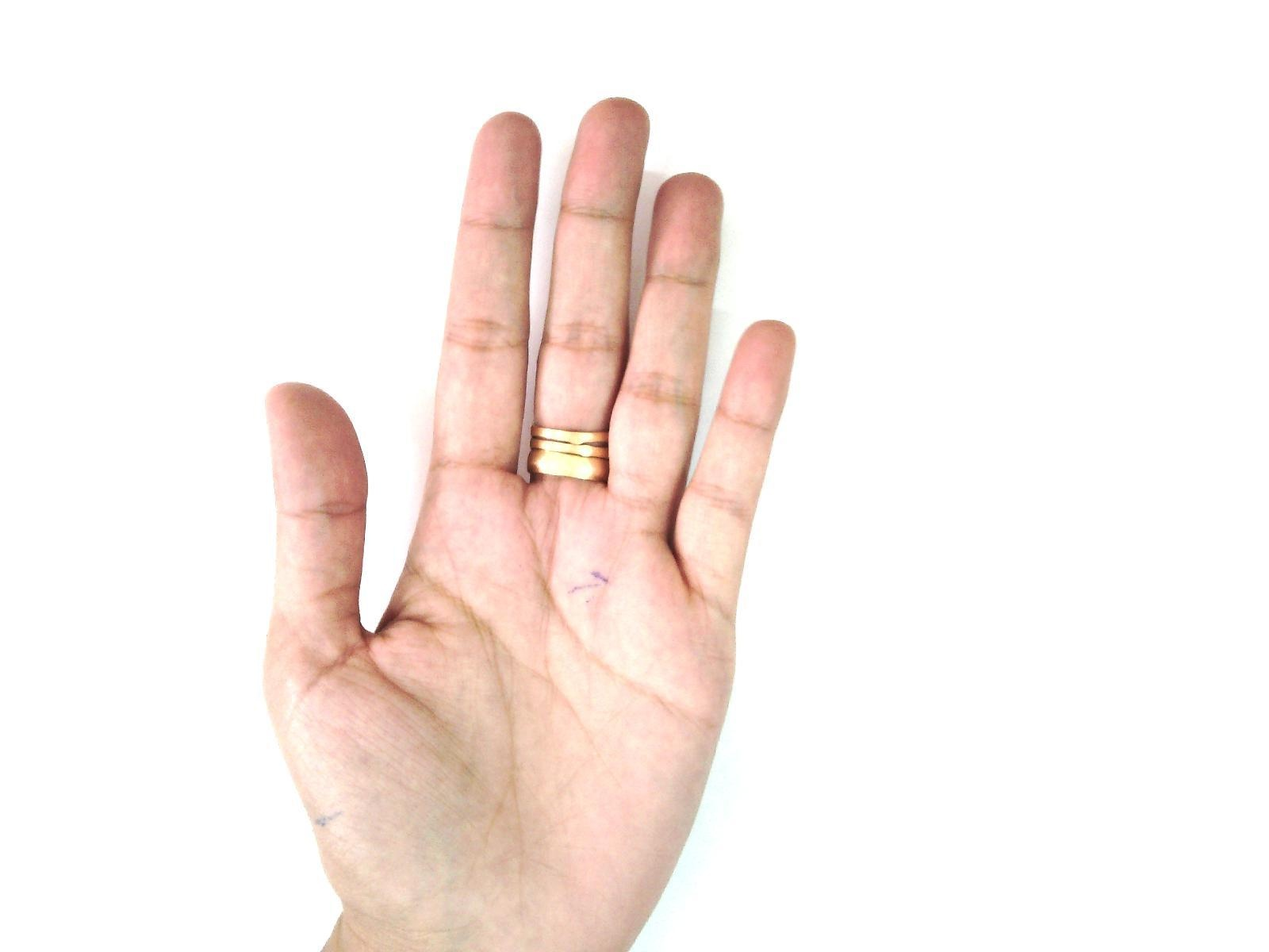open_palm: (259, 96, 799, 950)
